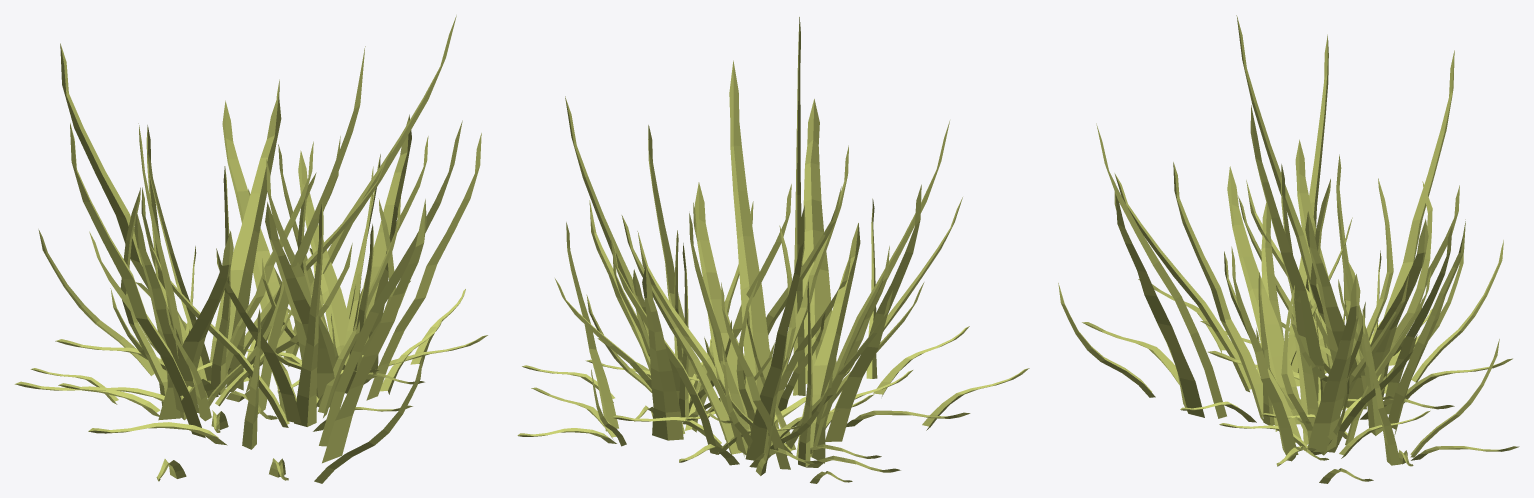
File: Grass1.fbx
3 views of the same model, side by side, from view 1: azimuth 30°, elevation 25°; view 2: azimuth 150°, elevation 25°; view 3: azimuth 270°, elevation 25° (orthographic). The views are drawn at different scales.
Visible parts, largest first — view 1: Grass.Clump.Style_1; view 2: Grass.Clump.Style_1; view 3: Grass.Clump.Style_1.
Part boxes in pixels (x1,y1,x2,y2): Grass.Clump.Style_1: [14, 15, 487, 483]; Grass.Clump.Style_1: [517, 17, 1029, 483]; Grass.Clump.Style_1: [1058, 15, 1519, 483].
Size of the model in its own units: 93.93 by 76.68 by 94.4.
